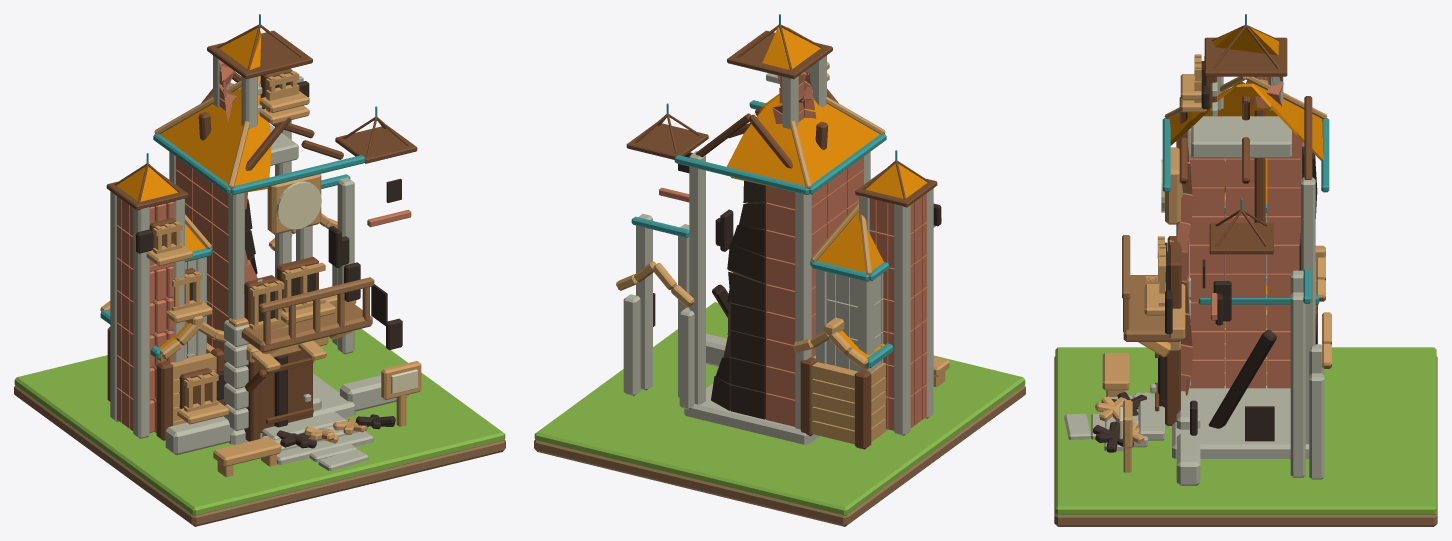
Rendered from town_hall_l10_damaged_LOD0.glb.
3 views of the same model, side by side, from view 1: azimuth 30°, elevation 25°; view 2: azimuth 150°, elevation 25°; view 3: azimuth 270°, elevation 25° (orthographic). The views are drawn at different scales.
Visible parts, largest first — view 1: town_hall_l10_damaged_grass_tile, town_hall_l10_damaged_earth_tile, town_hall_l10_damaged_corner_reinforcement.024, town_hall_l10_damaged_premium_balcony_floor, town_hall_l10_damaged_hip_roof_shingle.011, town_hall_l10_damaged_corner_reinforcement, town_hall_l10_damaged_door_recess, town_hall_l10_damaged_central_spire_cornice, town_hall_l10_damaged_stone_foundation_course, town_hall_l10_damaged_right_spire_cornice, town_hall_l10_damaged_clock_face, town_hall_l10_damaged_corner_reinforcement.019 (+31 smaller); view 2: town_hall_l10_damaged_grass_tile, town_hall_l10_damaged_earth_tile, town_hall_l10_damaged_corner_reinforcement.025, town_hall_l10_damaged_corner_reinforcement.003, town_hall_l10_damaged_corner_reinforcement.001, town_hall_l10_damaged_hip_roof_shingle.011, town_hall_l10_damaged_corner_reinforcement.019, town_hall_l10_damaged_hip_roof_shingle.008, town_hall_l10_damaged_foundation, town_hall_l10_damaged_corner_reinforcement.011, town_hall_l10_damaged_right_spire_cornice, town_hall_l10_damaged_central_spire_cornice (+40 smaller); view 3: town_hall_l10_damaged_grass_tile, town_hall_l10_damaged_earth_tile, town_hall_l10_damaged_foundation, town_hall_l10_damaged_surviving_tower_course, town_hall_l10_damaged_corner_reinforcement.019, town_hall_l10_damaged_corner_reinforcement.003, town_hall_l10_damaged_central_spire_cornice, town_hall_l10_damaged_right_spire_cornice, town_hall_l10_damaged_premium_balcony_floor, town_hall_l10_damaged_corner_reinforcement.011, town_hall_l10_damaged_collapsed_roof_beam, town_hall_l10_damaged_stone_foundation_course.002 (+46 smaller).
Part boxes in pixels (x1,y1,x2,y2): town_hall_l10_damaged_grass_tile: [14, 328, 505, 515]; town_hall_l10_damaged_earth_tile: [14, 385, 505, 526]; town_hall_l10_damaged_corner_reinforcement.024: [133, 207, 150, 438]; town_hall_l10_damaged_premium_balcony_floor: [241, 301, 372, 352]; town_hall_l10_damaged_hip_roof_shingle.011: [160, 116, 236, 194]; town_hall_l10_damaged_corner_reinforcement: [228, 193, 244, 319]; town_hall_l10_damaged_door_recess: [260, 351, 312, 432]; town_hall_l10_damaged_central_spire_cornice: [207, 30, 312, 79]; town_hall_l10_damaged_stone_foundation_course: [165, 416, 233, 455]; town_hall_l10_damaged_right_spire_cornice: [335, 125, 417, 163]; town_hall_l10_damaged_clock_face: [276, 181, 321, 229]; town_hall_l10_damaged_corner_reinforcement.019: [337, 177, 354, 354]; town_hall_l10_damaged_grass_tile: [534, 302, 1025, 515]; town_hall_l10_damaged_earth_tile: [534, 385, 1025, 526]; town_hall_l10_damaged_corner_reinforcement.025: [893, 204, 910, 435]; town_hall_l10_damaged_corner_reinforcement.003: [689, 151, 705, 404]; town_hall_l10_damaged_corner_reinforcement.001: [795, 192, 811, 429]; town_hall_l10_damaged_hip_roof_shingle.011: [803, 116, 879, 194]; town_hall_l10_damaged_corner_reinforcement.019: [636, 214, 652, 390]; town_hall_l10_damaged_hip_roof_shingle.008: [726, 134, 809, 194]; town_hall_l10_damaged_foundation: [684, 383, 819, 444]; town_hall_l10_damaged_corner_reinforcement.011: [623, 294, 640, 395]; town_hall_l10_damaged_right_spire_cornice: [626, 123, 708, 159]; town_hall_l10_damaged_central_spire_cornice: [727, 30, 832, 79]; town_hall_l10_damaged_grass_tile: [1055, 347, 1436, 514]; town_hall_l10_damaged_earth_tile: [1054, 356, 1437, 526]; town_hall_l10_damaged_foundation: [1172, 385, 1309, 458]; town_hall_l10_damaged_surviving_tower_course: [1191, 116, 1291, 157]; town_hall_l10_damaged_corner_reinforcement.019: [1290, 292, 1305, 477]; town_hall_l10_damaged_corner_reinforcement.003: [1301, 177, 1315, 444]; town_hall_l10_damaged_central_spire_cornice: [1204, 37, 1287, 76]; town_hall_l10_damaged_right_spire_cornice: [1209, 223, 1273, 254]; town_hall_l10_damaged_premium_balcony_floor: [1123, 275, 1181, 341]; town_hall_l10_damaged_corner_reinforcement.011: [1309, 373, 1324, 479]; town_hall_l10_damaged_collapsed_roof_beam: [1208, 330, 1276, 428]; town_hall_l10_damaged_stone_foundation_course.002: [1176, 433, 1200, 485].
Size of the model in its own units: 3.6 by 4.49 by 3.6.
